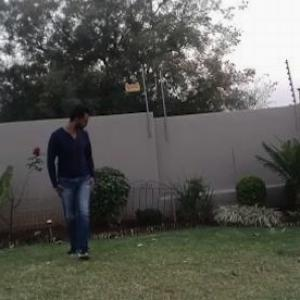follow: (41, 87, 99, 276)
